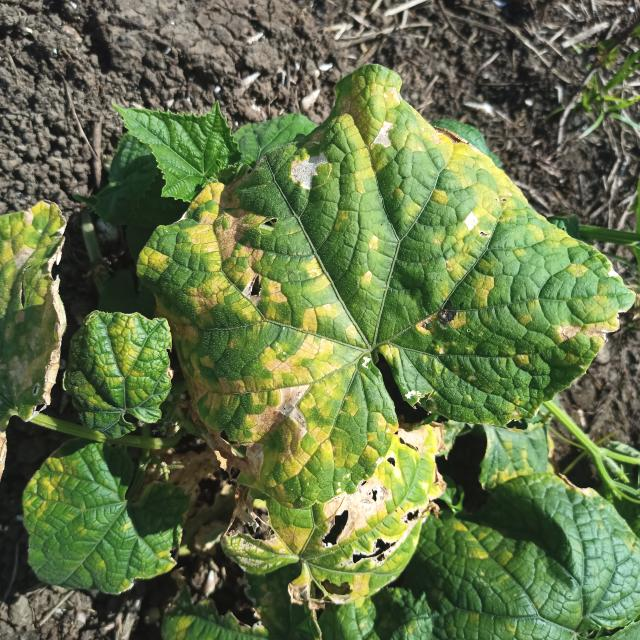disease_cucumber: (162, 67, 602, 585)
